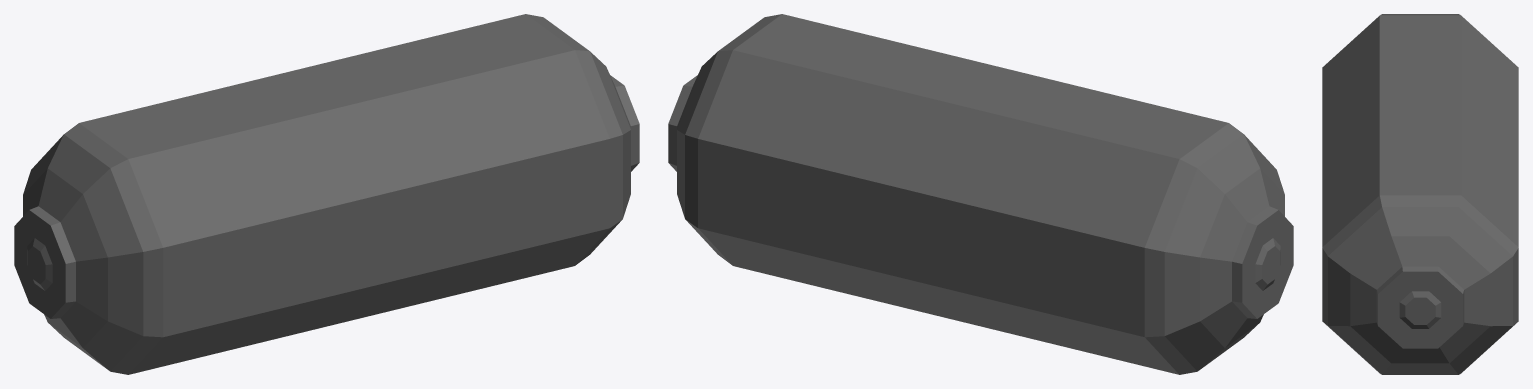
The model's file is SM_Props_Industrial_Tank_08.fbx.
3 renders of one model, left to right at view 1: azimuth 30°, elevation 25°; view 2: azimuth 150°, elevation 25°; view 3: azimuth 270°, elevation 25°, orthographic. The views are drawn at different scales.
Visible parts, largest first — view 1: SM_Props_Industrial_Tank_08; view 2: SM_Props_Industrial_Tank_08; view 3: SM_Props_Industrial_Tank_08.
Boxes of the visible parts, left/top/right/bottom form: SM_Props_Industrial_Tank_08: left=14, top=14, right=639, bottom=374; SM_Props_Industrial_Tank_08: left=668, top=14, right=1293, bottom=374; SM_Props_Industrial_Tank_08: left=1322, top=14, right=1518, bottom=374.
Size of the model in its own units: 364 by 129 by 129.
